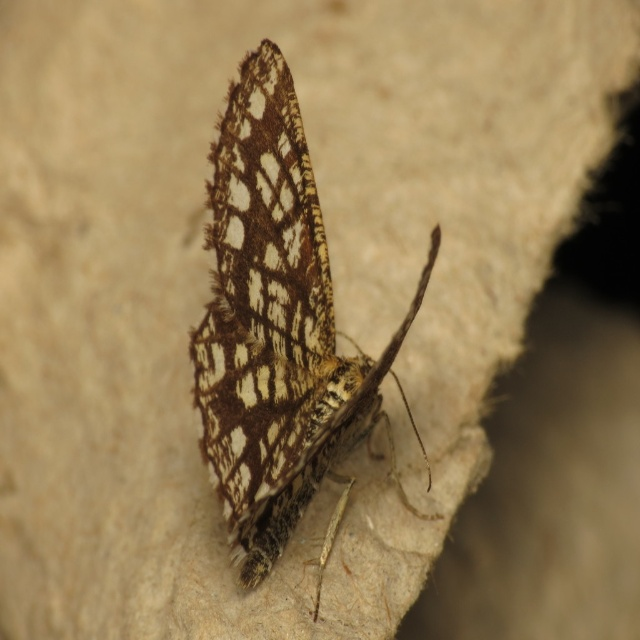Butterfly: (188, 37, 443, 620)
